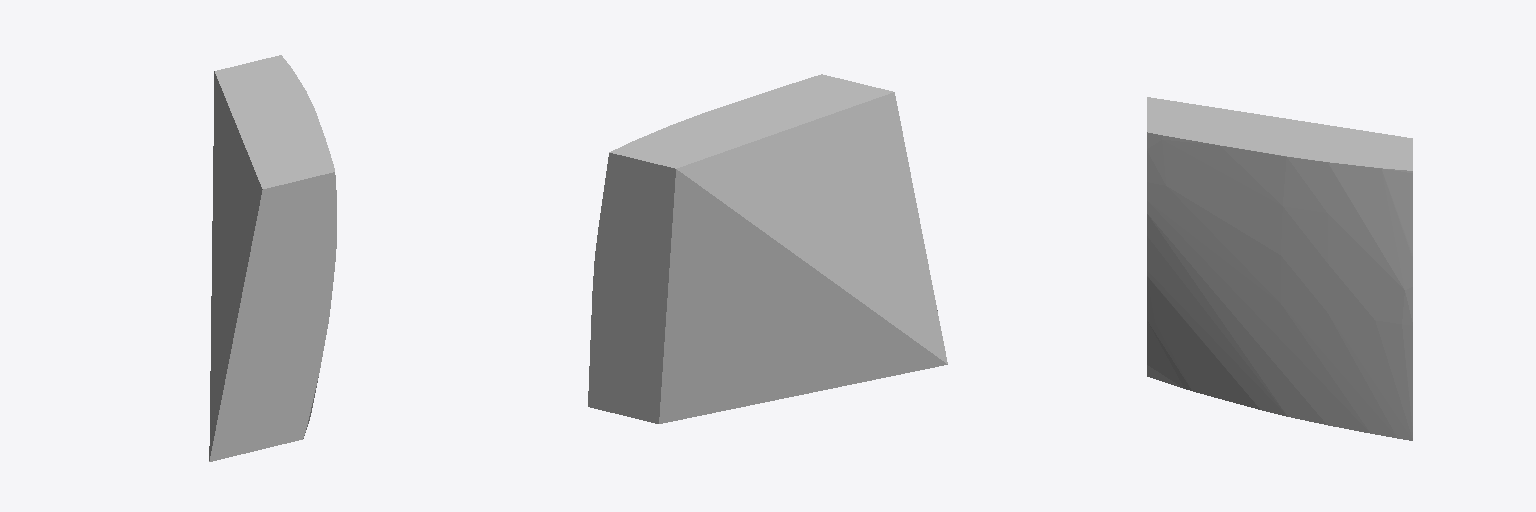
File: phantom-elastrat_collision_442.obj
The picture shows the model from 3 angles: view 1: azimuth 30°, elevation 25°; view 2: azimuth 150°, elevation 25°; view 3: azimuth 270°, elevation 25°; orthographic projection.
Size of the model in its own units: 0.0056 by 0.0062 by 0.0057.